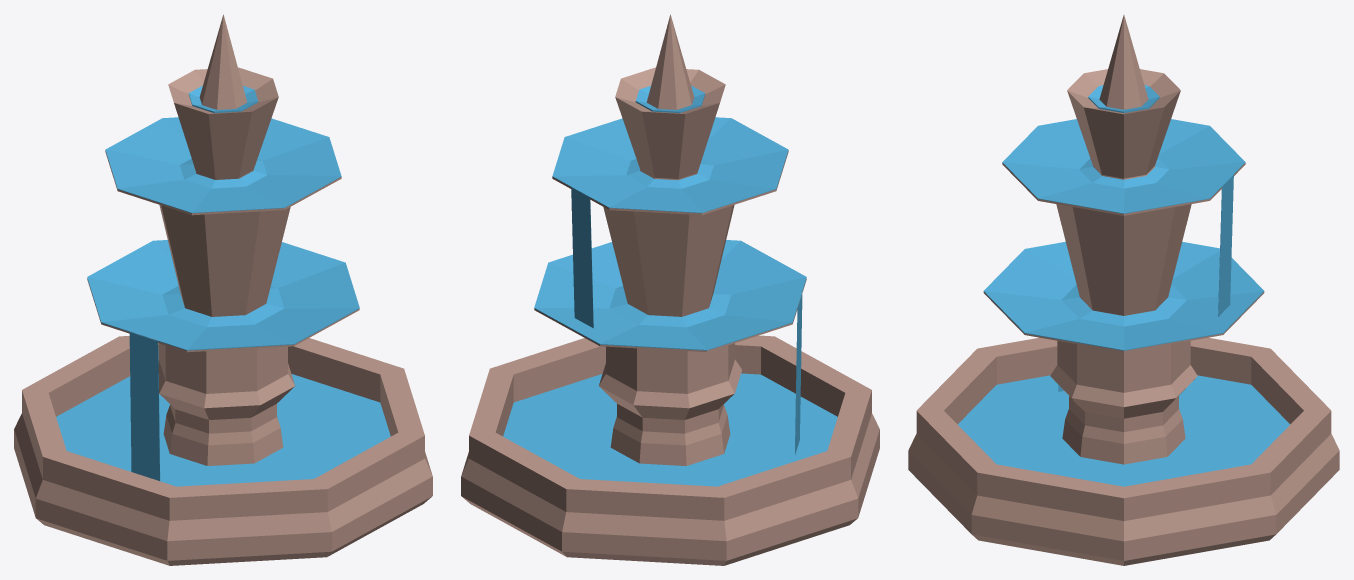
Rendered from fountain.fbx.
3 renders of one model, left to right at view 1: azimuth 30°, elevation 25°; view 2: azimuth 150°, elevation 25°; view 3: azimuth 270°, elevation 25°, orthographic.
Visible parts, largest first — view 1: fountain; view 2: fountain; view 3: fountain.
Part boxes in pixels (x1,y1,x2,y2): fountain: (14,14,432,565); fountain: (461,14,879,565); fountain: (908,15,1339,565).
Bounding box in the file's own units: 112 × 133 × 112.
